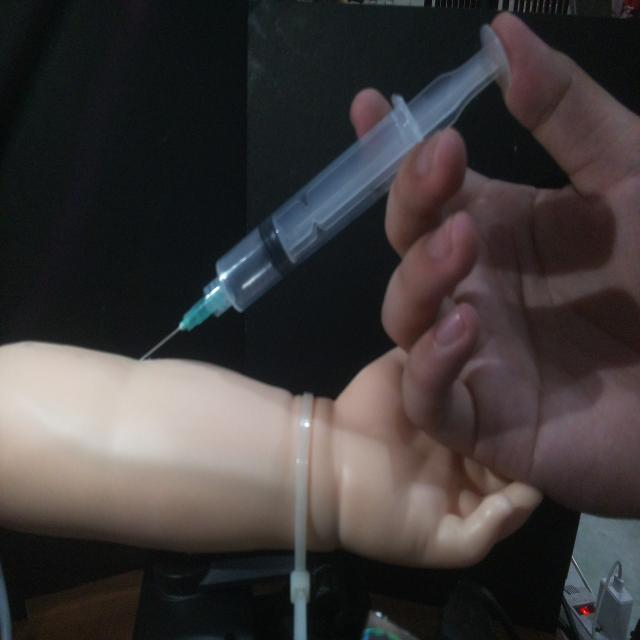29deg: (134, 21, 513, 364)
